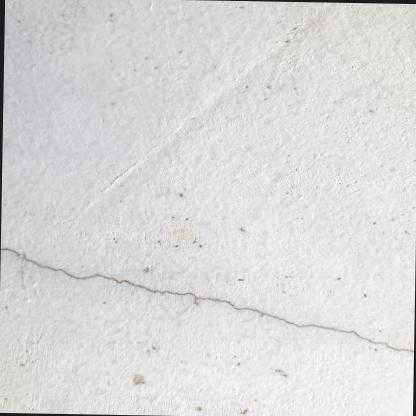crack: (21, 250, 414, 353), (0, 247, 20, 256)
